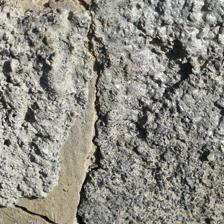Crack: (4, 98, 55, 126)
